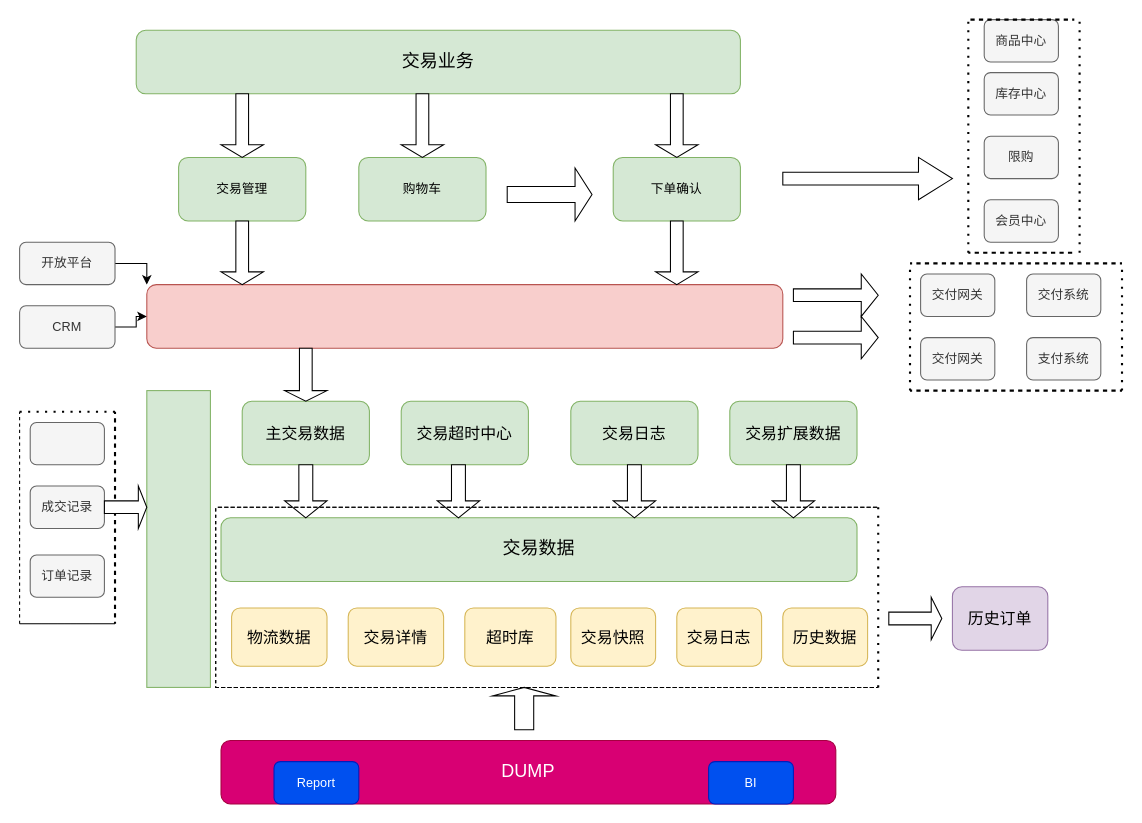
Some shapes in this 1142 by 823 pixel diagram are drawn without their labels. Each missing label, with the centre of its shape:
交易履约: point (464, 316)
交易缓存数据: point (178, 538)
销量: point (66, 443)
